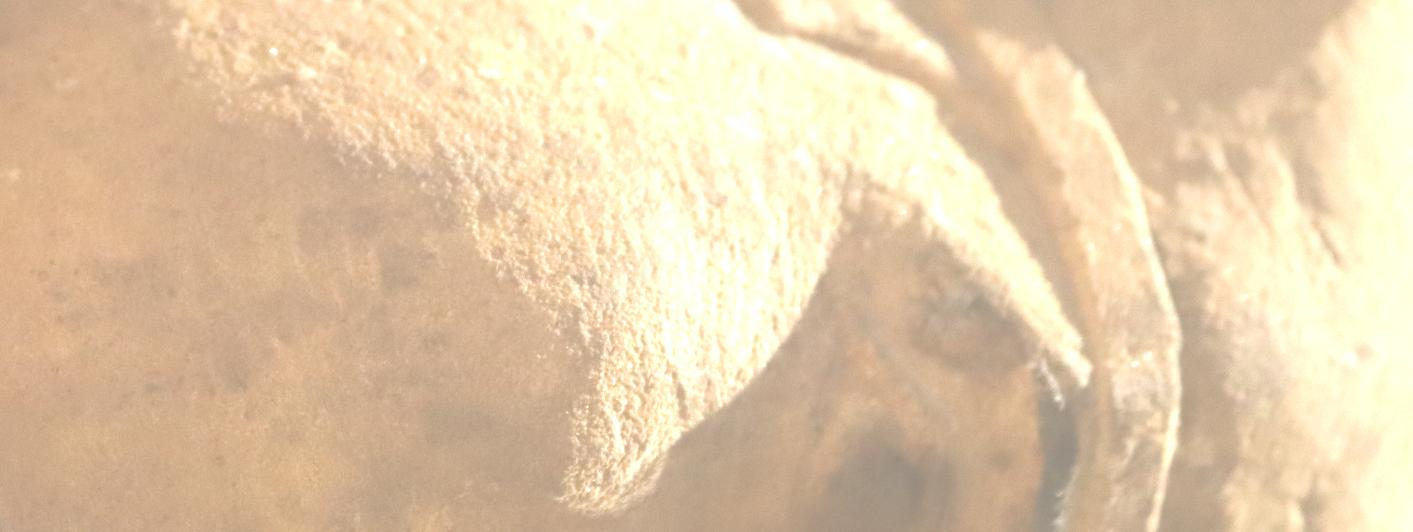statue_ofthe_sphinx: (0, 0, 852, 532)
